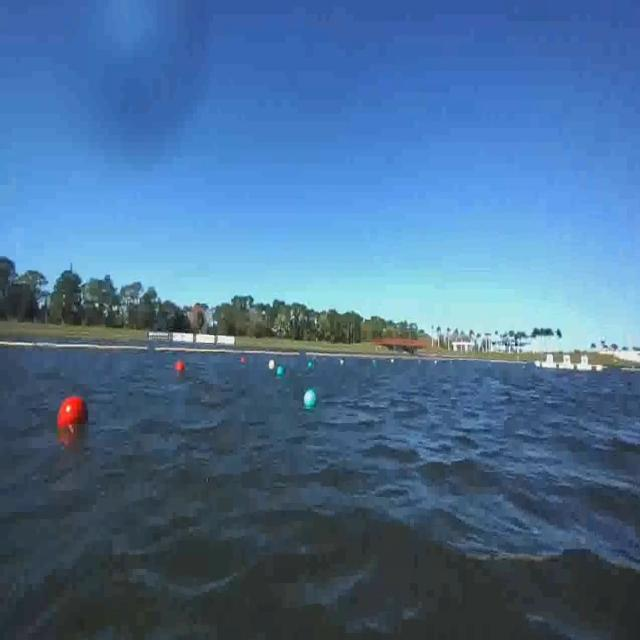green-buoy: (306, 388, 318, 408), (277, 364, 284, 376)
red-buoy: (58, 394, 89, 431), (176, 360, 185, 370)
